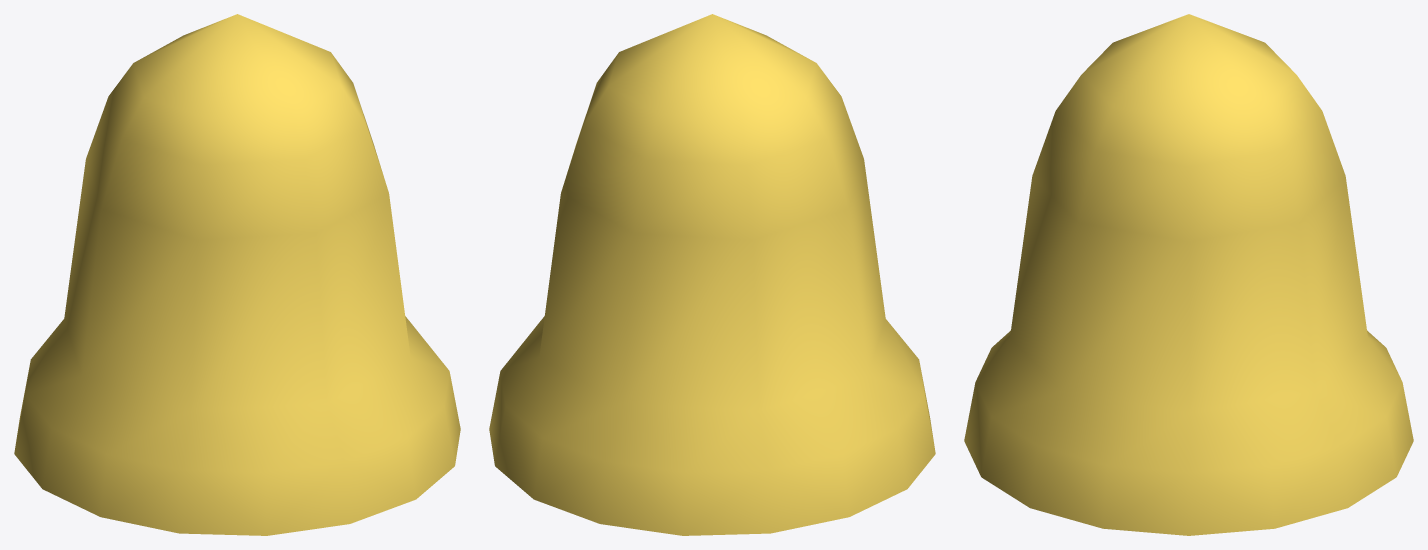
Rendered from Bell.obj.
3 renders of one model, left to right at view 1: azimuth 30°, elevation 25°; view 2: azimuth 150°, elevation 25°; view 3: azimuth 270°, elevation 25°, orthographic.
Bounding box in the file's own units: 3.45 × 3.62 × 3.45.
Materials: 1 (1 with a texture image).
